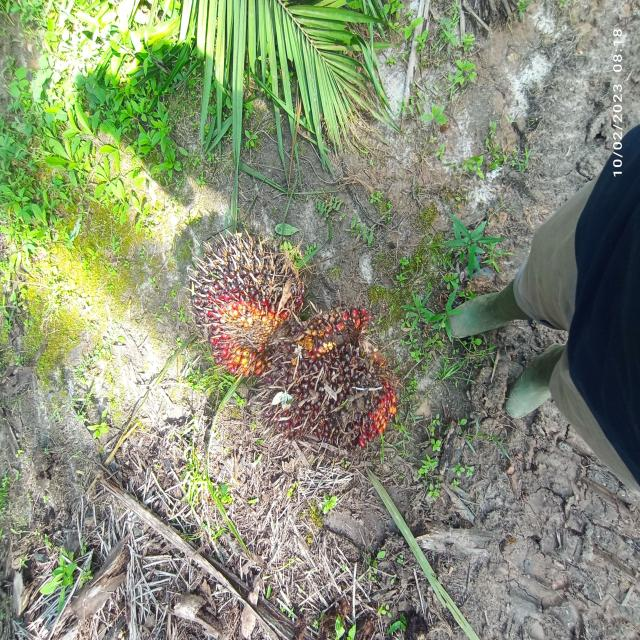fraksi 1: (254, 296, 404, 471), (177, 218, 309, 382)
